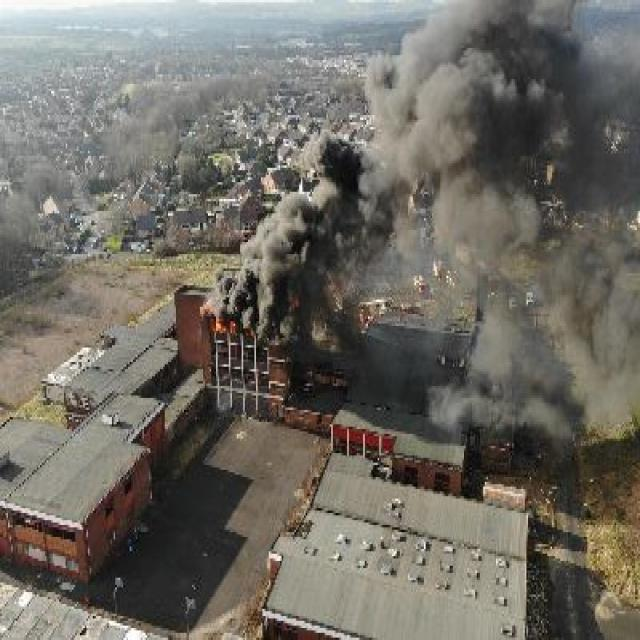Fire: (206, 310, 250, 346)
Smoke: (366, 23, 635, 241), (461, 253, 640, 467), (215, 150, 382, 330), (389, 141, 392, 141)
